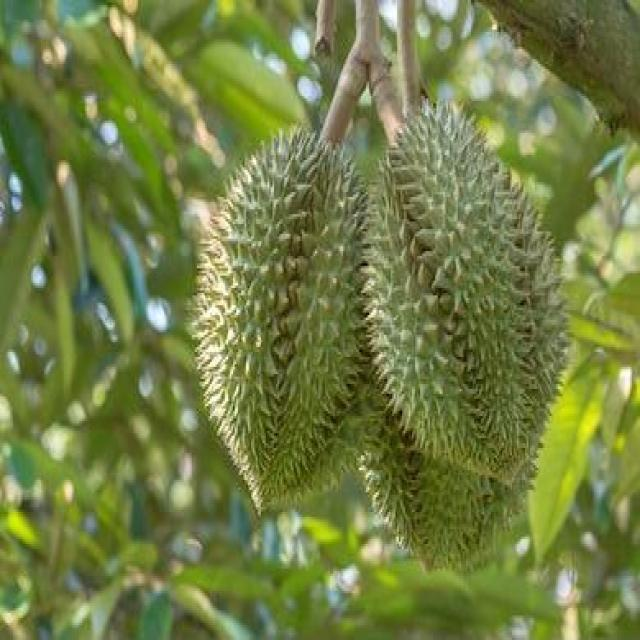immature: (364, 97, 574, 497), (192, 122, 368, 516)
